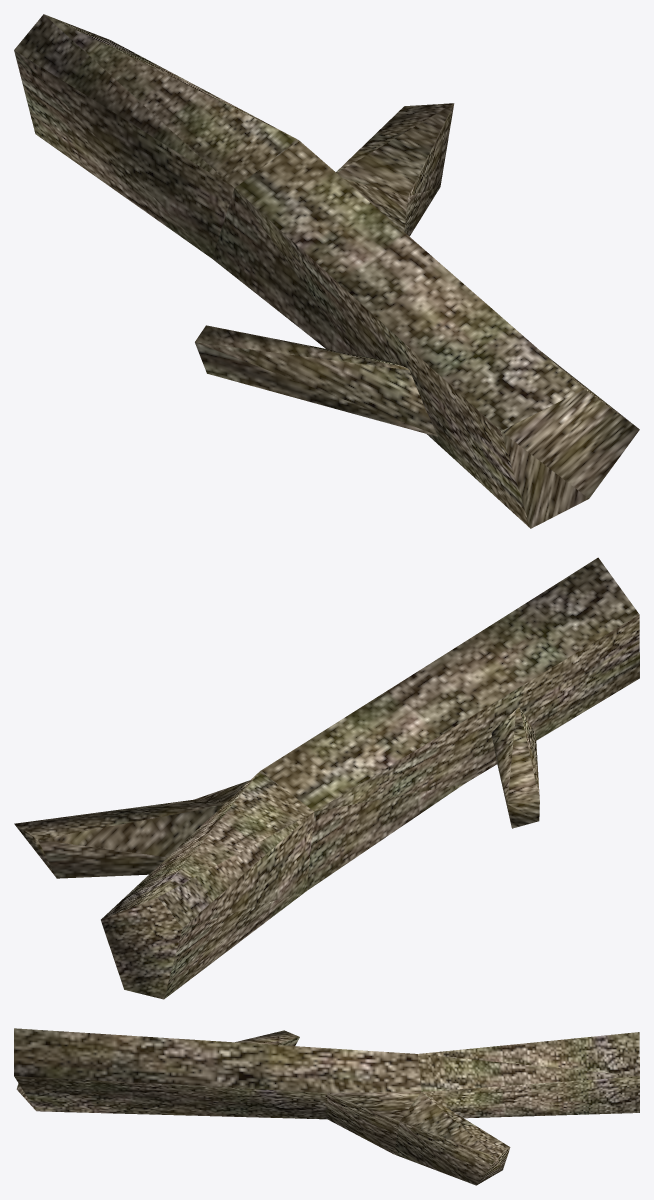
The model's file is log_a.glb.
The picture shows the model from 3 angles, top to bottom: view 1: azimuth 30°, elevation 25°; view 2: azimuth 150°, elevation 25°; view 3: azimuth 270°, elevation 25°; orthographic projection. The views are drawn at different scales.
Parts seen in each view (by area): view 1: log_a; view 2: log_a; view 3: log_a.
Boxes of the visible parts, left/top/right/bottom form: log_a: left=14, top=14, right=639, bottom=528; log_a: left=14, top=557, right=639, bottom=999; log_a: left=14, top=1028, right=639, bottom=1185.
Bounding box in the file's own units: 3.96 × 1.32 × 8.26.
1 material, 1 textured.
